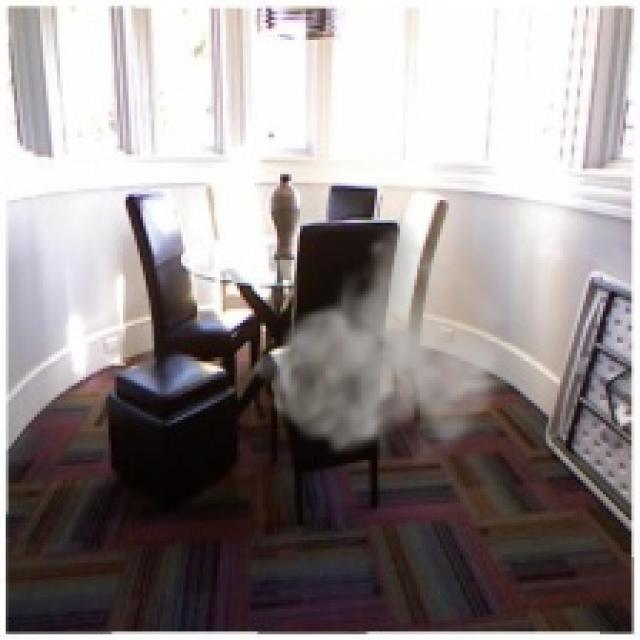Smoke: (248, 212, 514, 477)
